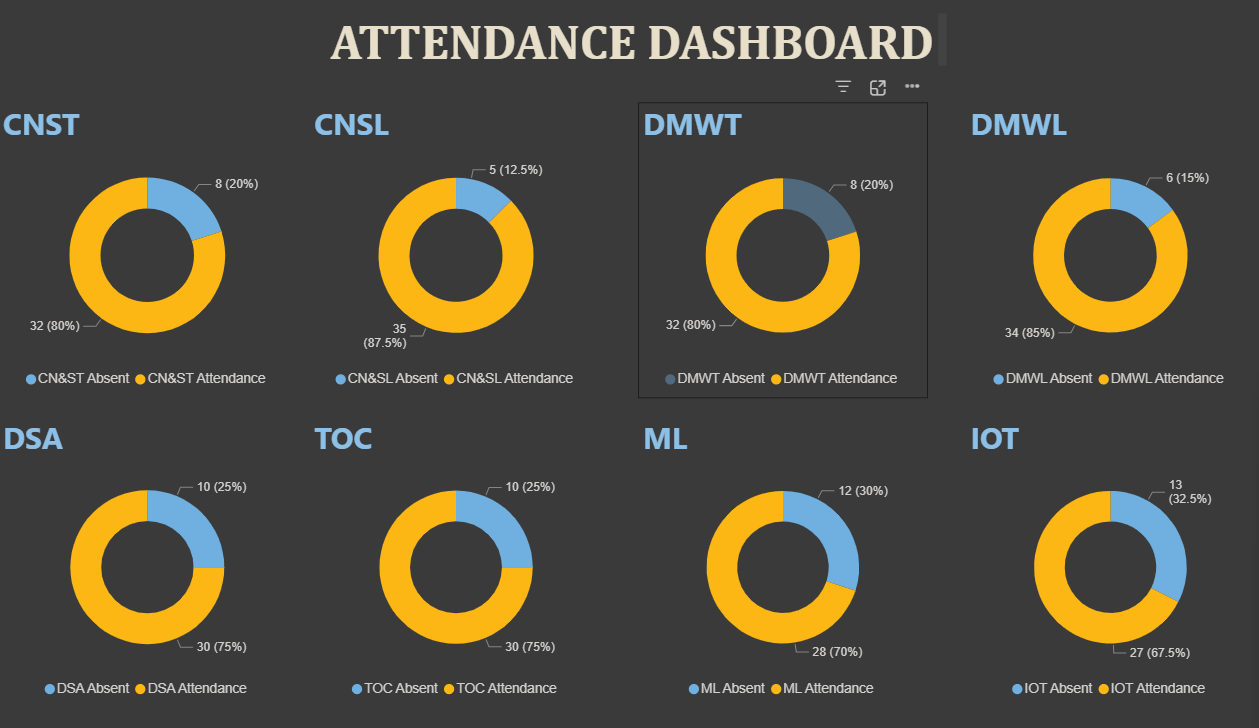

The dashboard page shown, as its layout file describes it:
{"tool":"powerbi","page":{"name":"Page 1","canvas":[1280,720],"ordinal":0},"visuals":[{"type":"donutChart","title":"DSA","fields":{"Y":["Attendance_dataset.DSA Absent","Attendance_dataset.DSA Attendance"]},"box":[0,411.8,293.6,287.4],"z":0},{"type":"donutChart","title":"ML","fields":{"Y":["Attendance_dataset.ML Absent","Attendance_dataset.ML Attendance"]},"box":[628.2,411.8,284.9,287.4],"z":1000},{"type":"donutChart","title":"IOT","fields":{"Y":["Attendance_dataset.IOT Absent","Attendance_dataset.IOT Attendance"]},"box":[949.1,411.8,284.9,287.4],"z":2000},{"type":"donutChart","title":"CNST","fields":{"Y":["Attendance_dataset.CN&SL Absent","Attendance_dataset.CN&SL Attendance"]},"box":[0,104.5,293.6,291.1],"z":3000},{"type":"donutChart","title":"CNSL","fields":{"Y":["Attendance_dataset.CN&SL Absent","Attendance_dataset.CN&SL Attendance"]},"box":[306,104.5,288.6,291.1],"z":4000},{"type":"donutChart","title":"DMWT","fields":{"Y":["Attendance_dataset.DMWL Absent","Attendance_dataset.DMWT Attendance"]},"box":[628.2,104.5,284.9,291.1],"z":5000},{"type":"donutChart","title":"DMWL","fields":{"Y":["Attendance_dataset.DMWL Absent","Attendance_dataset.DMWL Attendance"]},"box":[949.1,104.5,284.9,291.1],"z":6000},{"type":"donutChart","title":"TOC","fields":{"Y":["Attendance_dataset.TOC Absent","Attendance_dataset.TOC Attendance"]},"box":[306,411.8,288.6,287.4],"z":7000},{"type":"textbox","box":[320.9,12.4,614.5,63.4],"z":7001}]}

Visuals, with their boxes in screenshot pixels (x1, y1, x2, y2), scaled from the page's 1280x720 canvas onto the 1259x728 screenshot:
"DSA" donutChart: [x1=0, y1=416, x2=289, y2=707]
"ML" donutChart: [x1=618, y1=416, x2=898, y2=707]
"IOT" donutChart: [x1=934, y1=416, x2=1214, y2=707]
"CNST" donutChart: [x1=0, y1=106, x2=289, y2=400]
"CNSL" donutChart: [x1=301, y1=106, x2=585, y2=400]
"DMWT" donutChart: [x1=618, y1=106, x2=898, y2=400]
"DMWL" donutChart: [x1=934, y1=106, x2=1214, y2=400]
"TOC" donutChart: [x1=301, y1=416, x2=585, y2=707]
textbox: [x1=316, y1=13, x2=920, y2=77]
